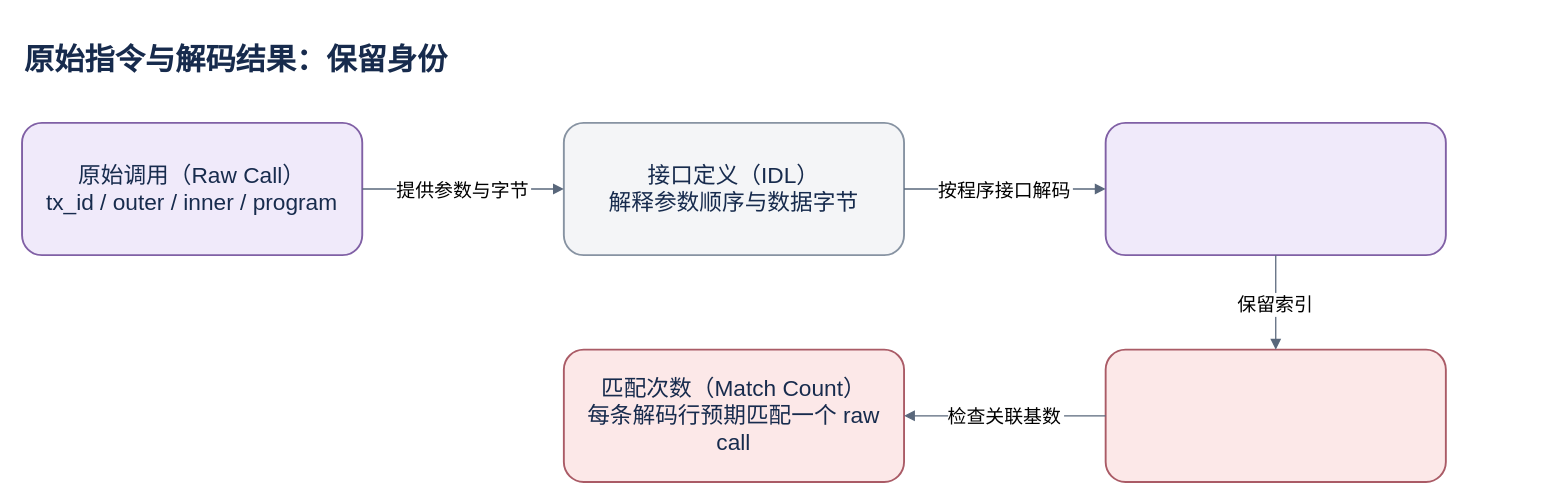
Image size: 1556x504. Some labels were removed from this diagram. Here are the shapes that lost their labels. From the top down, the centre of each, then its label:
At point (1275, 188): "解码行（Decoded Call） 指令名称、from/to、lamports".
At point (1275, 415): "身份核验（Identity QA） inner index 使用 NULL-safe 比较".
